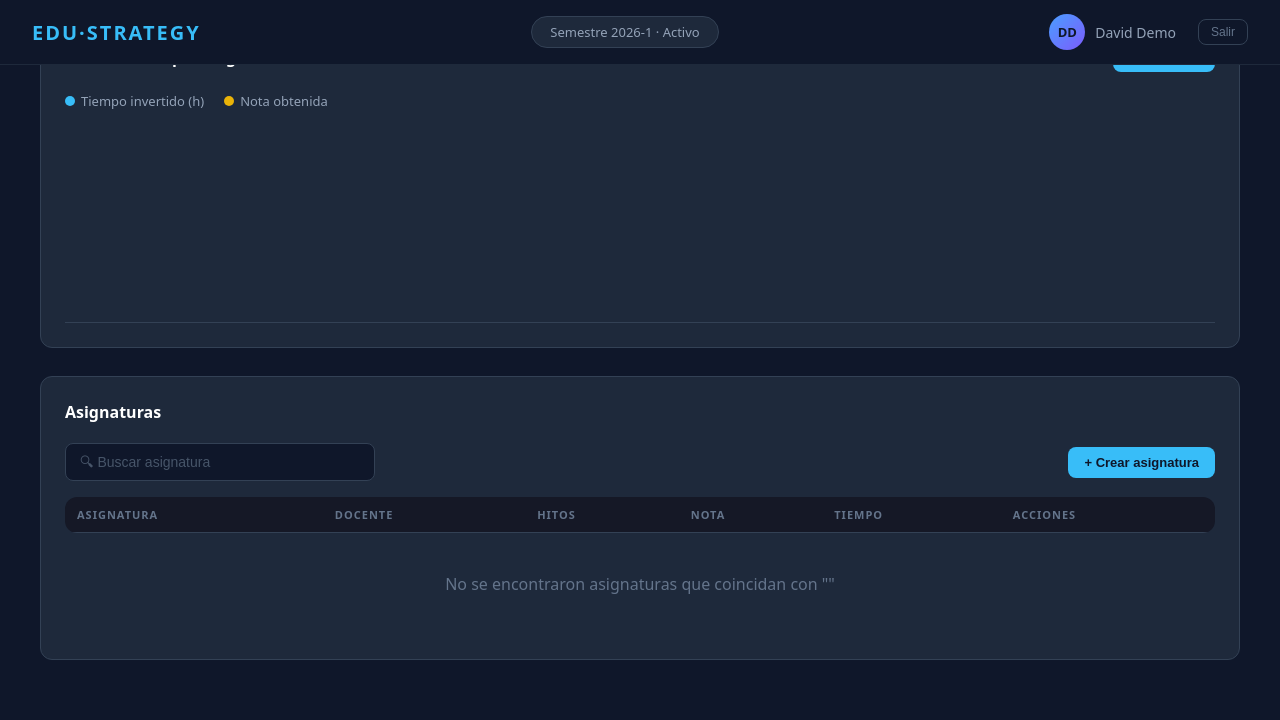
Scenario: Integración - Dashboard › filtra la tabla de asignaturas segun el buscador
(page scrolled)
Step 1. Type "mat" into the field with placeholder "🔍︎ Buscar asignatura" → [220, 462], box [65,443,375,481]
(page scrolled)
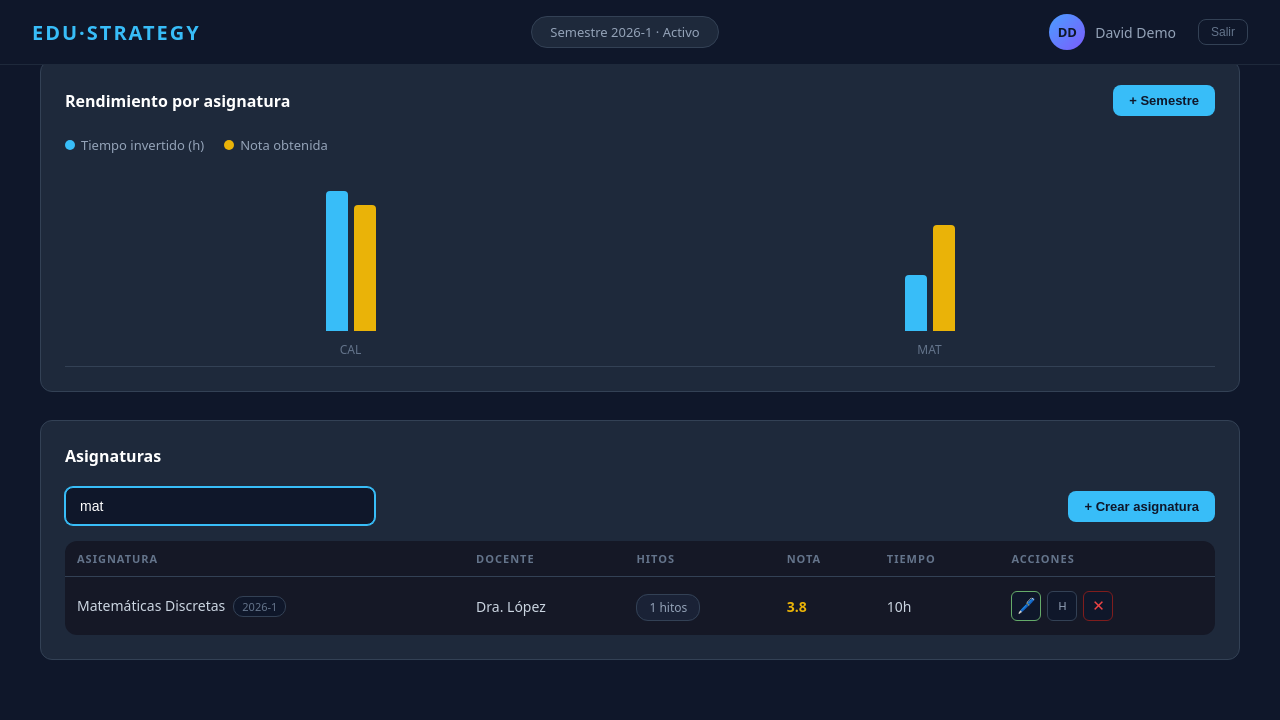
Expected: the text "Cálculo Diferencial" is not shown
Now the text "Matemáticas Discretas 2026-1" is shown, box [65,576,464,635]
Step 2. Clear the field with placeholder "🔍︎ Buscar asignatura" → [220, 506], box [65,487,375,525]
(page scrolled)
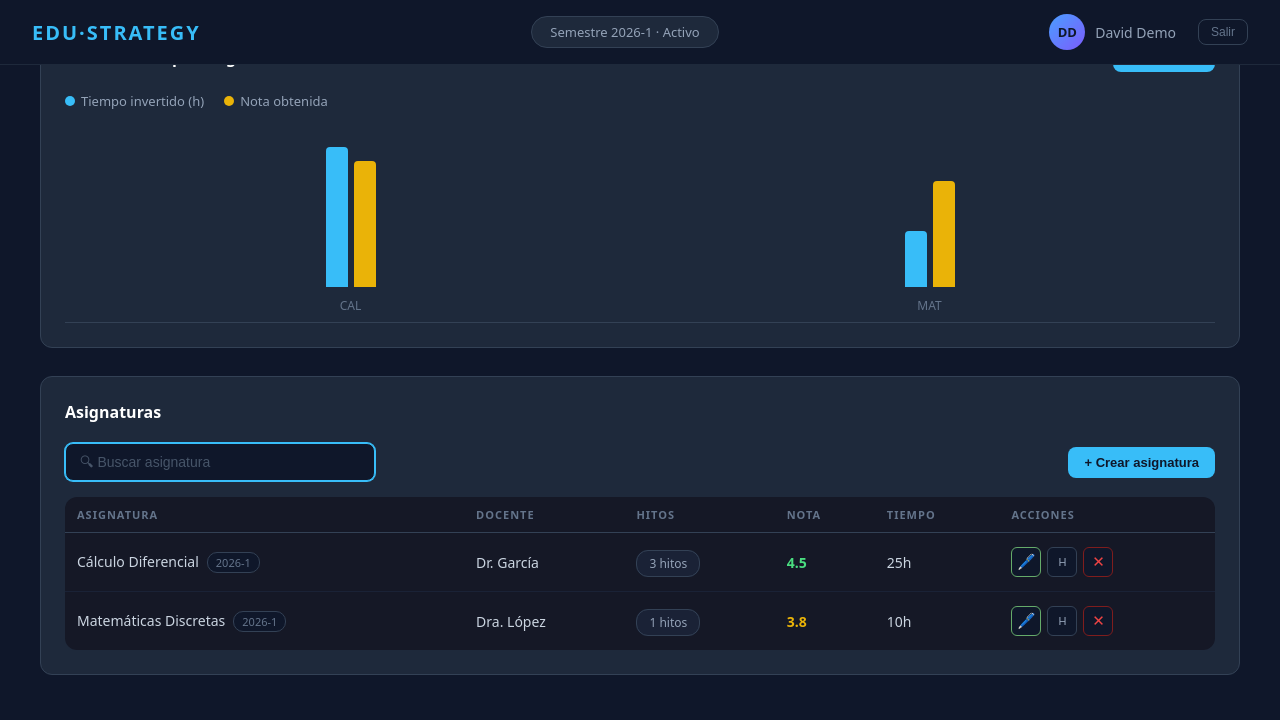
Step 3. Type "xyz-no-existe" into the field with placeholder "🔍︎ Buscar asignatura" → [220, 462], box [65,443,375,481]
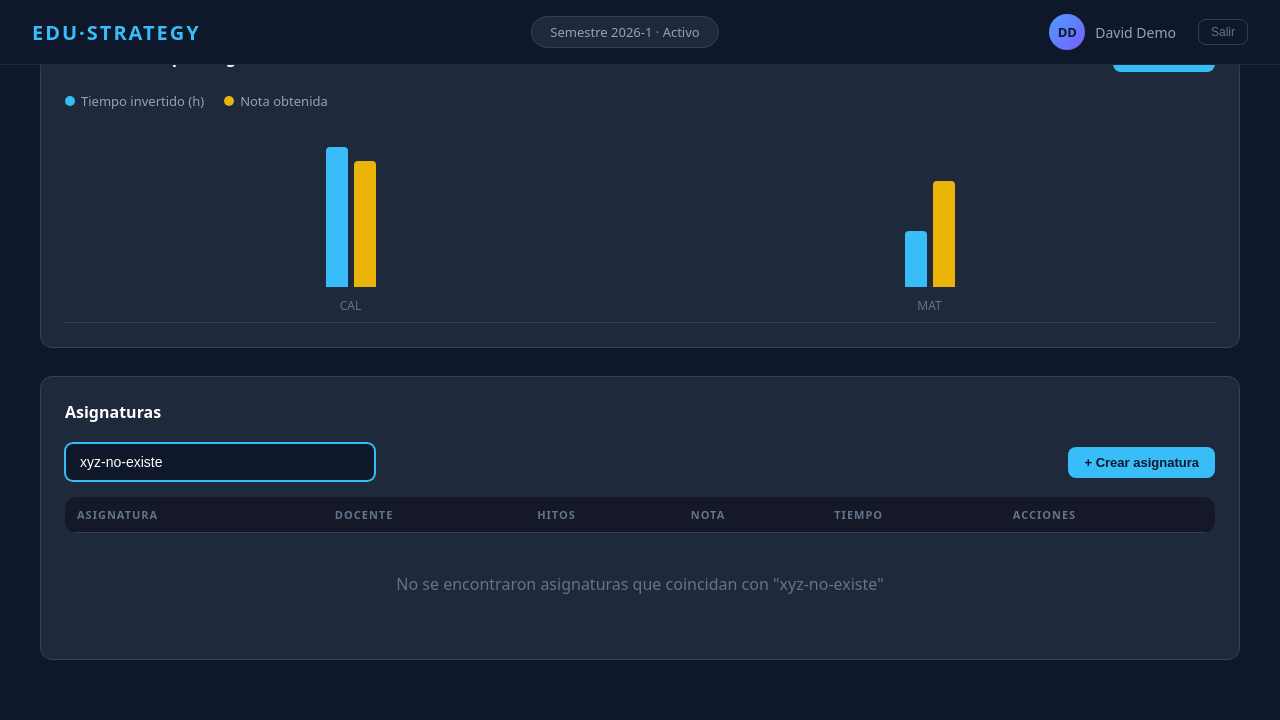
Now the text "No se encontraron asignaturas" is shown, box [396,573,780,595]
